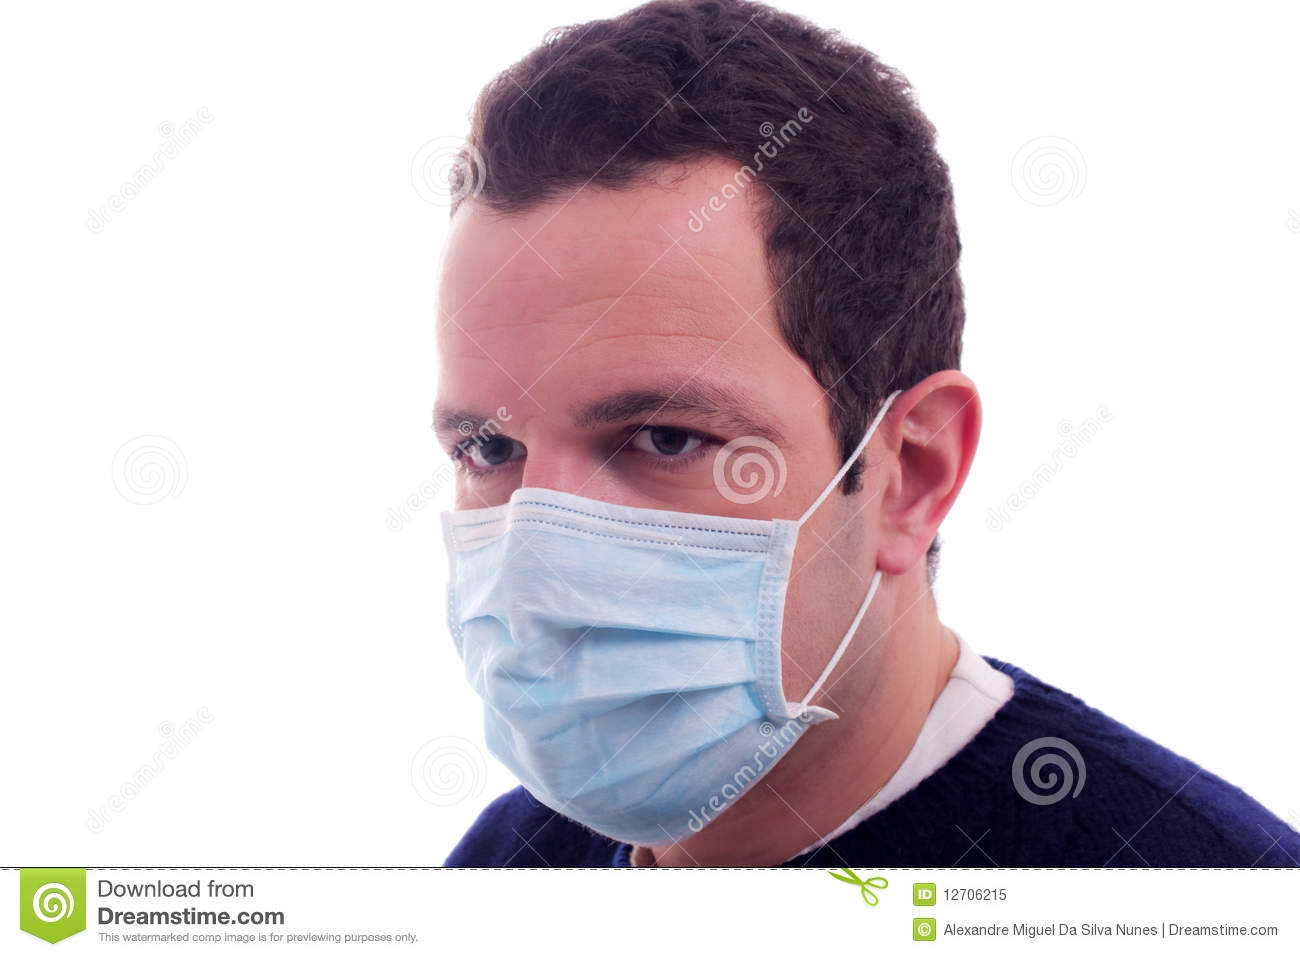mask: (447, 491, 821, 841)
